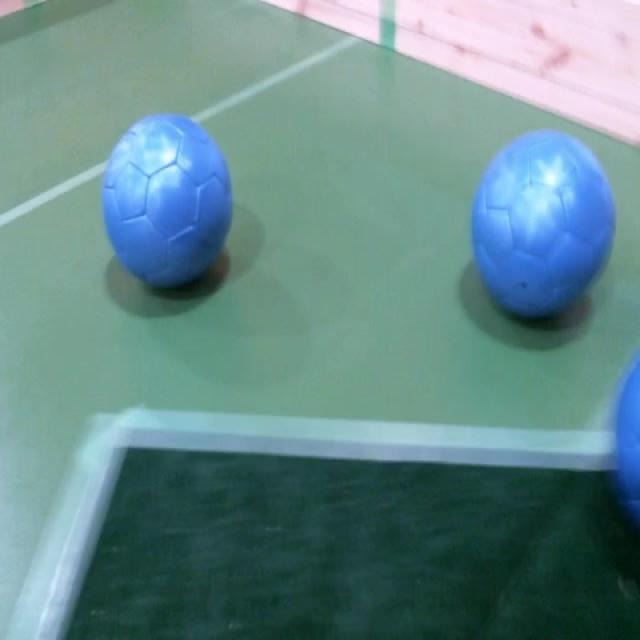blue_ball: (472, 131, 616, 331), (105, 116, 233, 291), (608, 354, 640, 540)
